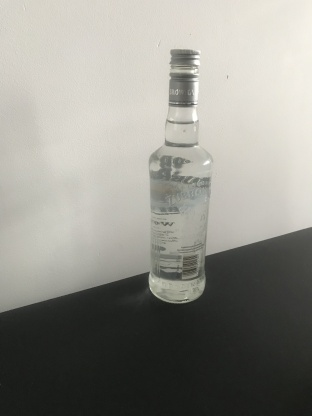nakretka: (167, 46, 200, 108)
